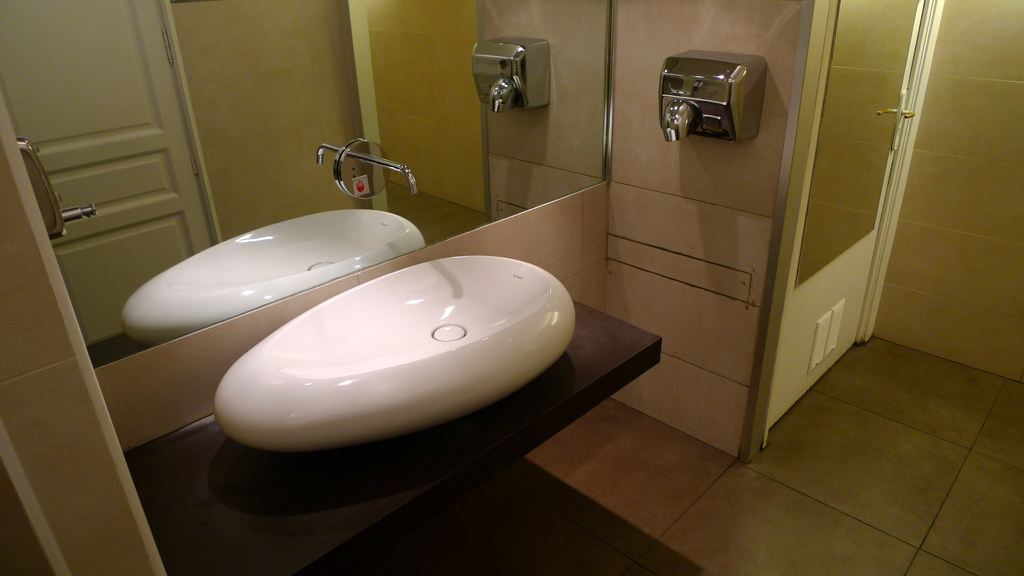tap: (314, 140, 416, 205)
